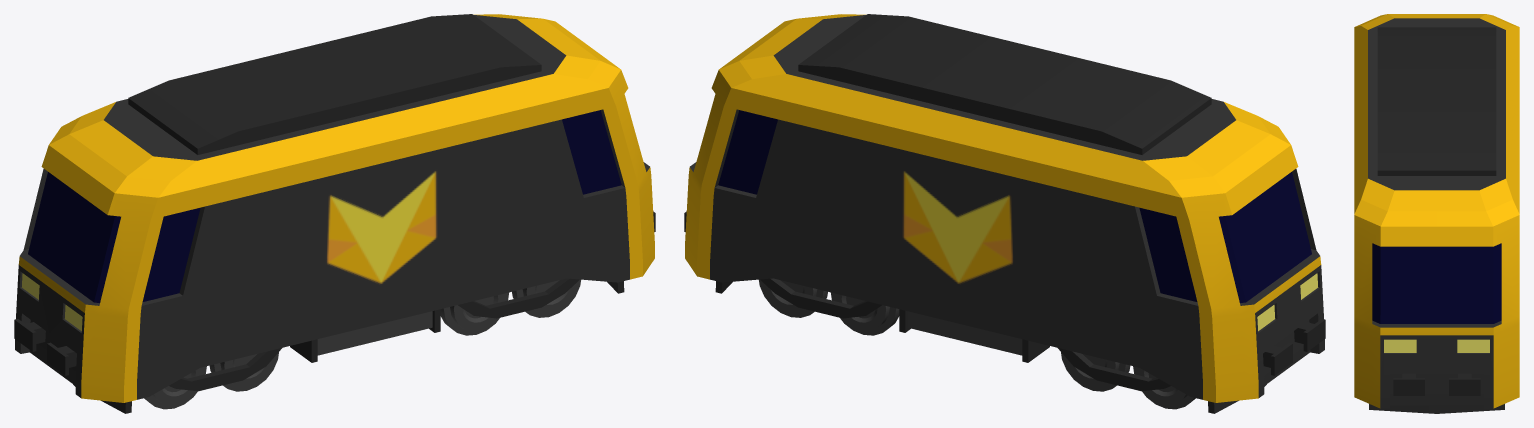
Rendered from electricyellowlocomotive.fbx.
3 views of the same model, side by side, from view 1: azimuth 30°, elevation 25°; view 2: azimuth 150°, elevation 25°; view 3: azimuth 270°, elevation 25° (orthographic). The views are drawn at different scales.
Visible parts, largest first — view 1: electricyellowlocomotive; view 2: electricyellowlocomotive; view 3: electricyellowlocomotive.
Part boxes in pixels (left/top/right/bottom): electricyellowlocomotive: left=14, top=14, right=655, bottom=413; electricyellowlocomotive: left=684, top=14, right=1325, bottom=413; electricyellowlocomotive: left=1354, top=14, right=1519, bottom=413.
Bounding box in the file's own units: 921 × 402 × 262.
